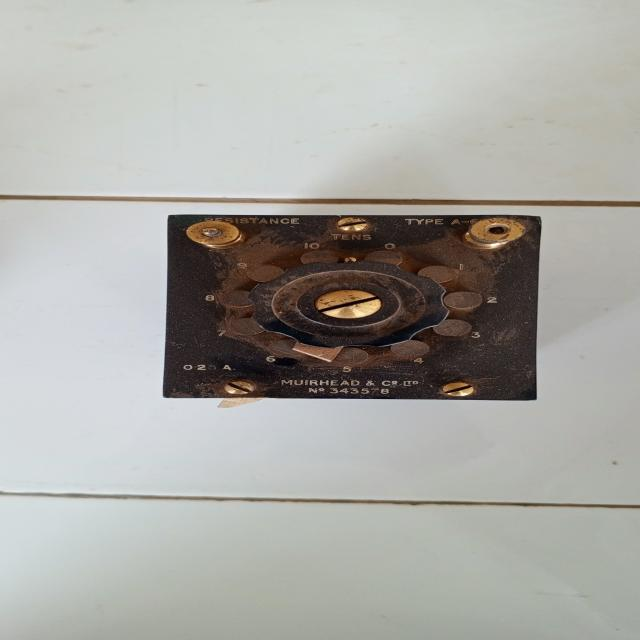Set of Resistances: (150, 202, 580, 411)
